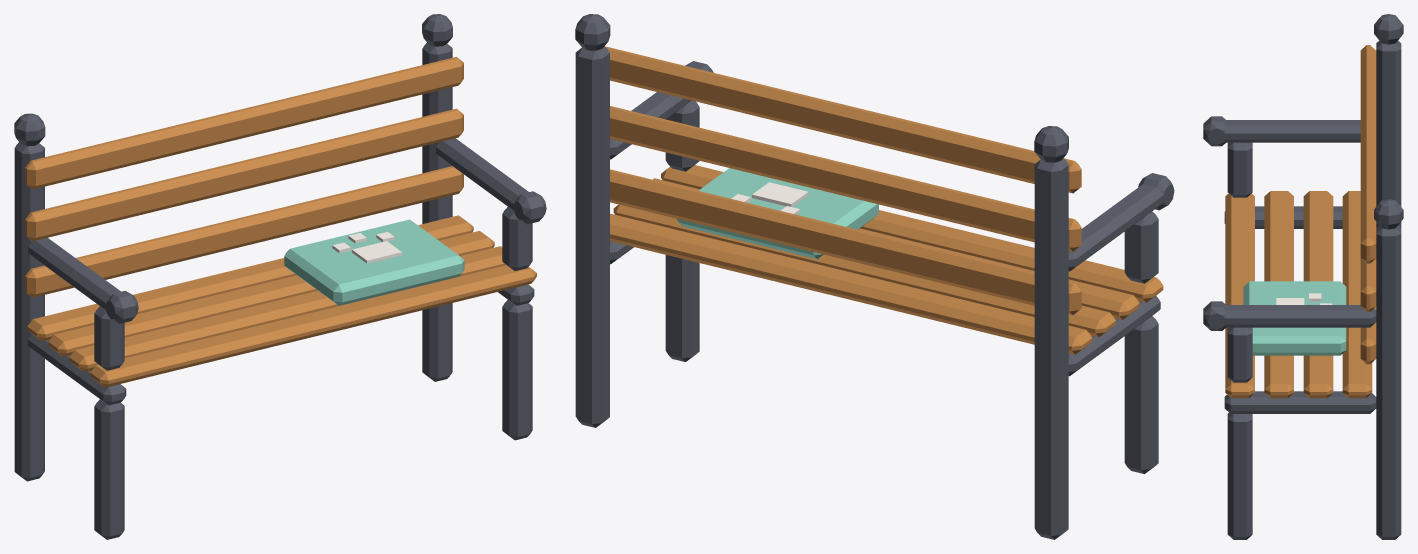
Rendered from CatCafe_Decor_ParkBench.glb.
3 renders of one model, left to right at view 1: azimuth 30°, elevation 25°; view 2: azimuth 150°, elevation 25°; view 3: azimuth 270°, elevation 25°, orthographic. The views are drawn at different scales.
Visible parts, largest first — view 1: CatCafe_Decor_ParkBench; view 2: CatCafe_Decor_ParkBench; view 3: CatCafe_Decor_ParkBench.
Boxes of the visible parts, x1,y1,x2,y2 form: CatCafe_Decor_ParkBench: (14, 14, 546, 539); CatCafe_Decor_ParkBench: (575, 14, 1174, 539); CatCafe_Decor_ParkBench: (1203, 14, 1403, 539).
Bounding box in the file's own units: 3 × 2.38 × 1.28.
1 material, 1 textured.
